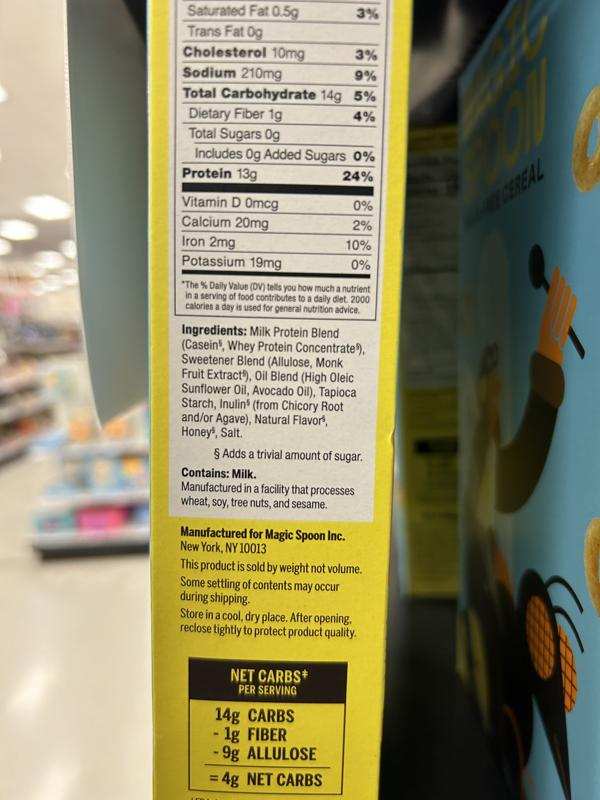ingredients: (179, 322, 367, 440)
